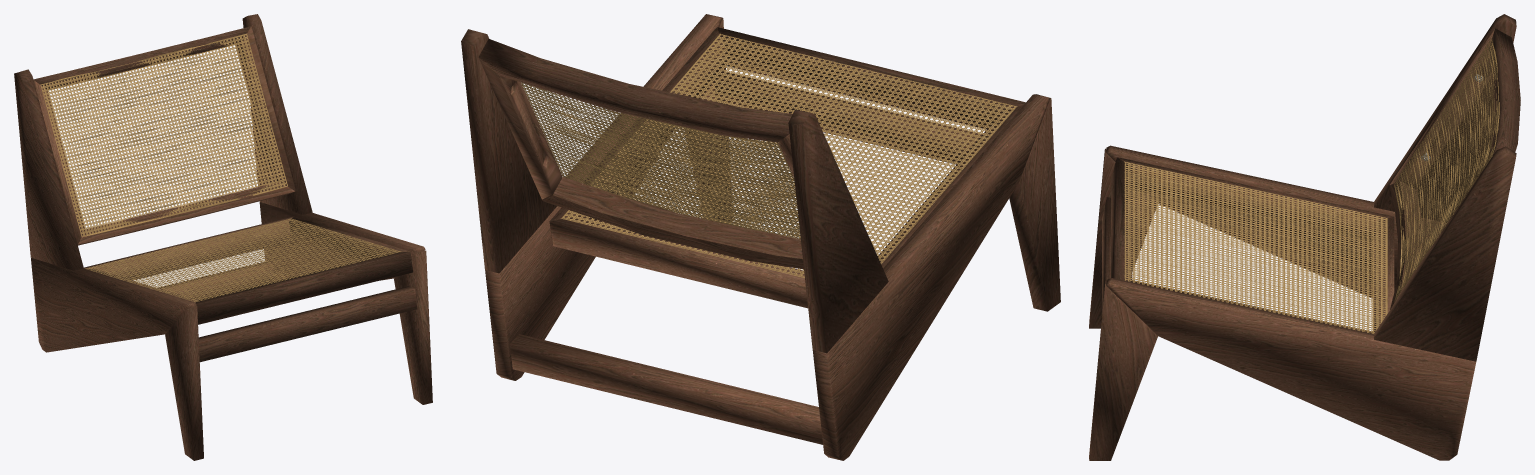
Rendered from chair.glb.
3 views of the same model, side by side, from view 1: azimuth 30°, elevation 25°; view 2: azimuth 150°, elevation 25°; view 3: azimuth 270°, elevation 25° (orthographic). The views are drawn at different scales.
Parts seen in each view (by area): view 1: seat_side.001; view 2: seat_side.001; view 3: seat_side.001.
Part boxes in pixels (left/top/right/bottom): seat_side.001: left=14, top=14, right=432, bottom=460; seat_side.001: left=461, top=14, right=1060, bottom=460; seat_side.001: left=1089, top=14, right=1520, bottom=460.
Size of the model in its own units: 0.585 by 0.6094 by 0.7719.
Materials: 3 (2 with a texture image).
